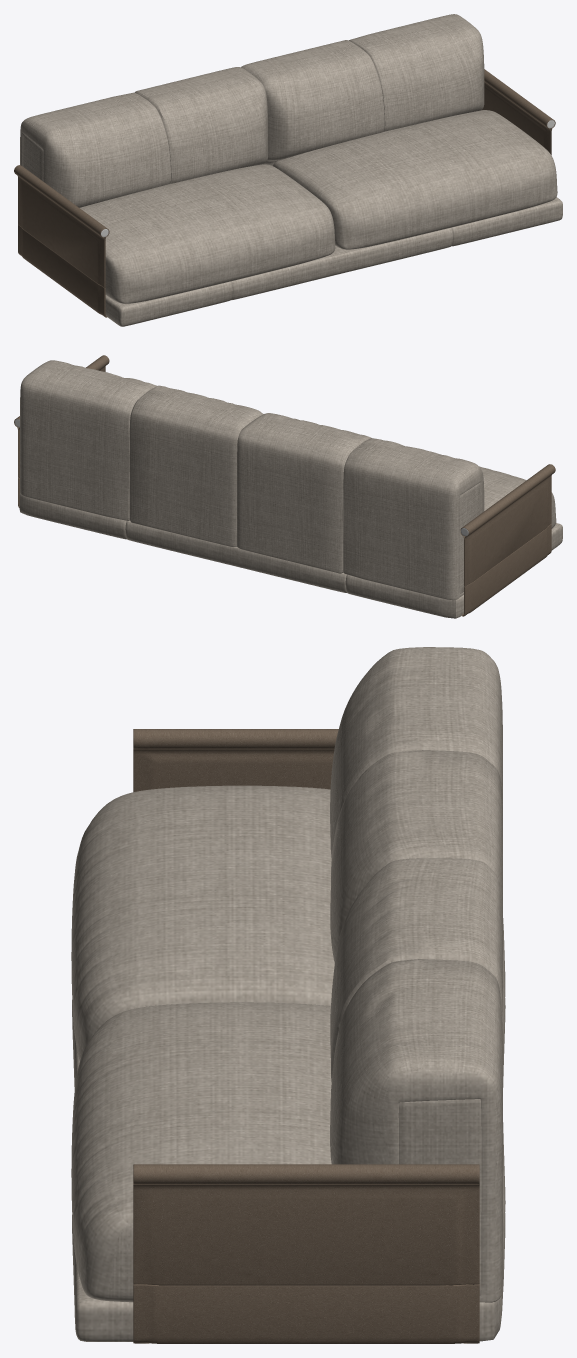
File: althon.gltf
3 renders of one model, top to bottom at view 1: azimuth 30°, elevation 25°; view 2: azimuth 150°, elevation 25°; view 3: azimuth 270°, elevation 25°, orthographic. The views are drawn at different scales.
Parts seen in each view (by area): view 1: althon (×2); view 2: althon (×2); view 3: althon (×2).
Part boxes in pixels (box(x1,y1,x2,y2)): althon (×2): box(14, 14, 562, 326); althon (×2): box(14, 355, 562, 618); althon (×2): box(71, 647, 505, 1343).
Bounding box in the file's own units: 2.36 × 0.7664 × 0.9733.
Materials: 2 (2 with a texture image).
